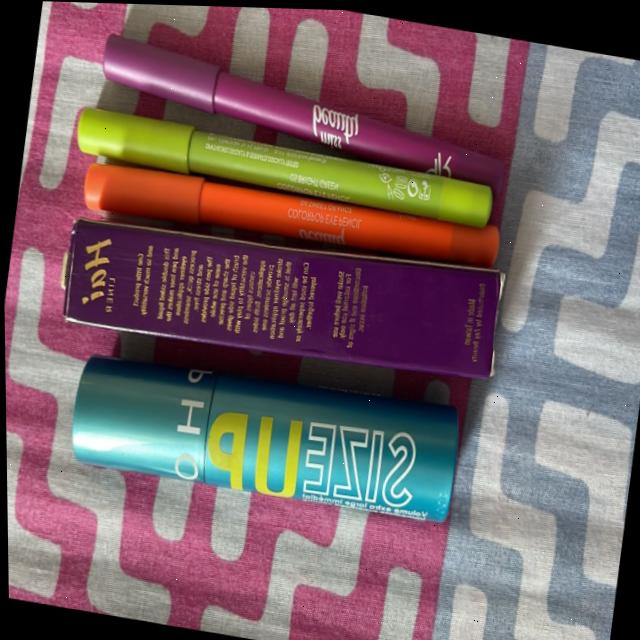lip liner: (44, 7, 555, 394)
mascara: (41, 339, 468, 580)
